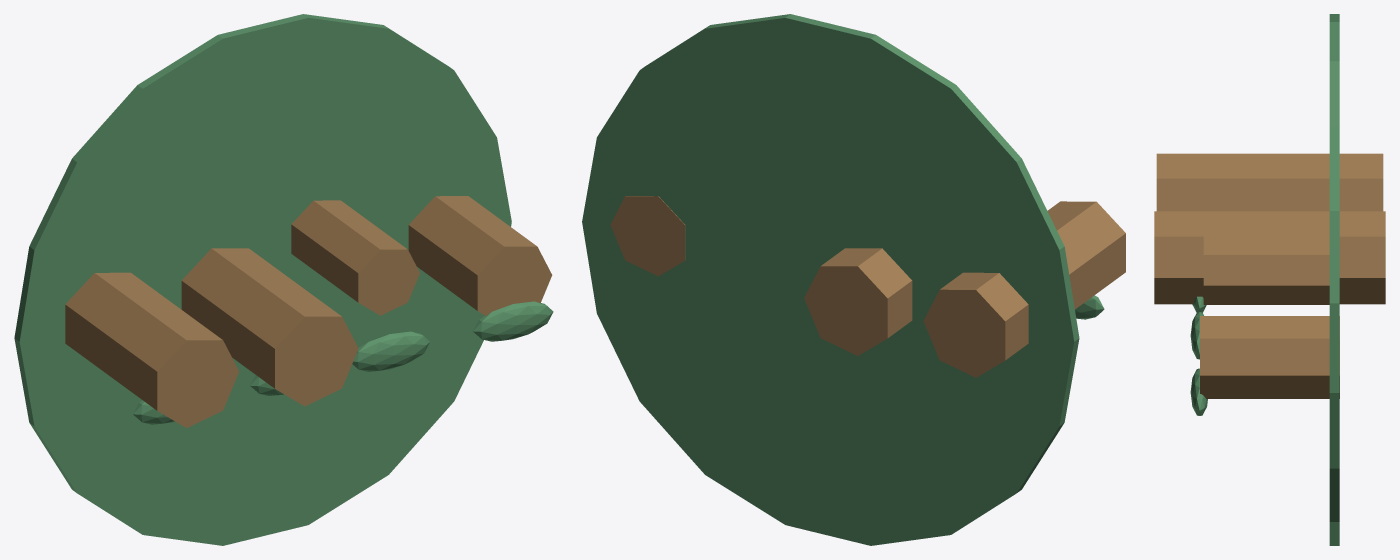
File: 02_local_prop_cluster.glb
The picture shows the model from 3 angles, left to right: view 1: azimuth 30°, elevation 25°; view 2: azimuth 150°, elevation 25°; view 3: azimuth 270°, elevation 25°; orthographic projection. The views are drawn at different scales.
Visible parts, largest first — view 1: scatter_base, root_stump_1, root_stump_0, root_stump_3, root_stump_2, moss_3, moss_2; view 2: scatter_base, root_stump_0, root_stump_1, root_stump_3; view 3: root_stump_0, root_stump_1, root_stump_3, root_stump_2, scatter_base, moss_3, moss_2.
Boxes of the visible parts, left/top/right/bottom form: scatter_base: left=14, top=14, right=511, bottom=545; root_stump_1: left=181, top=248, right=358, bottom=406; root_stump_0: left=65, top=272, right=239, bottom=428; root_stump_3: left=408, top=196, right=552, bottom=315; root_stump_2: left=291, top=200, right=419, bottom=315; moss_3: left=473, top=301, right=553, bottom=341; moss_2: left=352, top=331, right=429, bottom=371; scatter_base: left=582, top=14, right=1079, bottom=545; root_stump_0: left=923, top=201, right=1125, bottom=377; root_stump_1: left=804, top=248, right=912, bottom=355; root_stump_3: left=610, top=196, right=685, bottom=276; root_stump_0: left=1156, top=153, right=1383, bottom=211; root_stump_1: left=1154, top=211, right=1385, bottom=304; root_stump_3: left=1200, top=316, right=1339, bottom=398; root_stump_2: left=1203, top=236, right=1329, bottom=304; scatter_base: left=1329, top=14, right=1339, bottom=545; moss_3: left=1190, top=368, right=1207, bottom=415; moss_2: left=1190, top=312, right=1203, bottom=359.
Size of the model in its own units: 1.9 by 1.87 by 0.8237.
